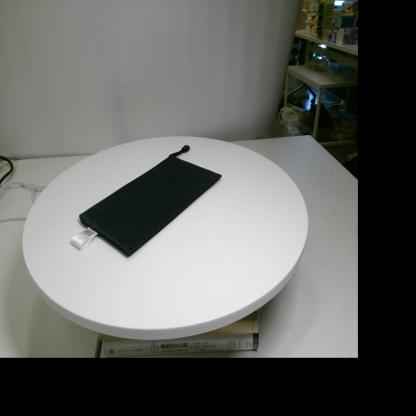Stationery: (71, 145, 222, 256)
